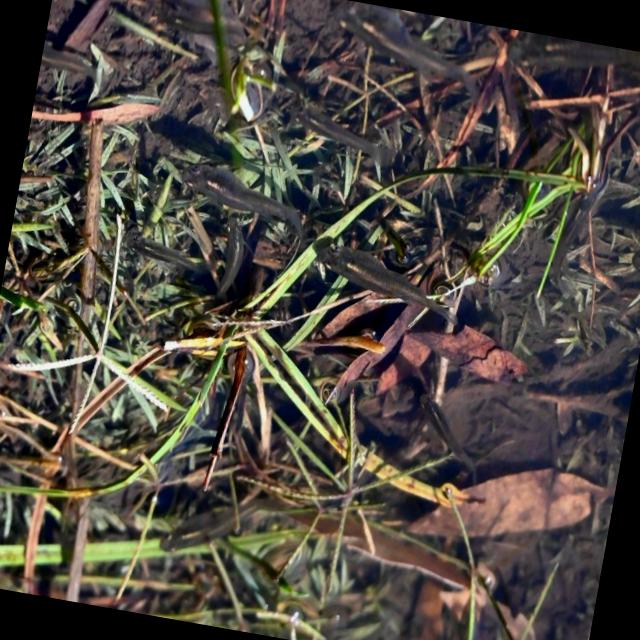Sivrisinek Baligi: (312, 235, 467, 328), (340, 10, 486, 100), (178, 163, 322, 244), (153, 486, 263, 570), (284, 101, 394, 170), (407, 398, 488, 477), (124, 234, 214, 282)
